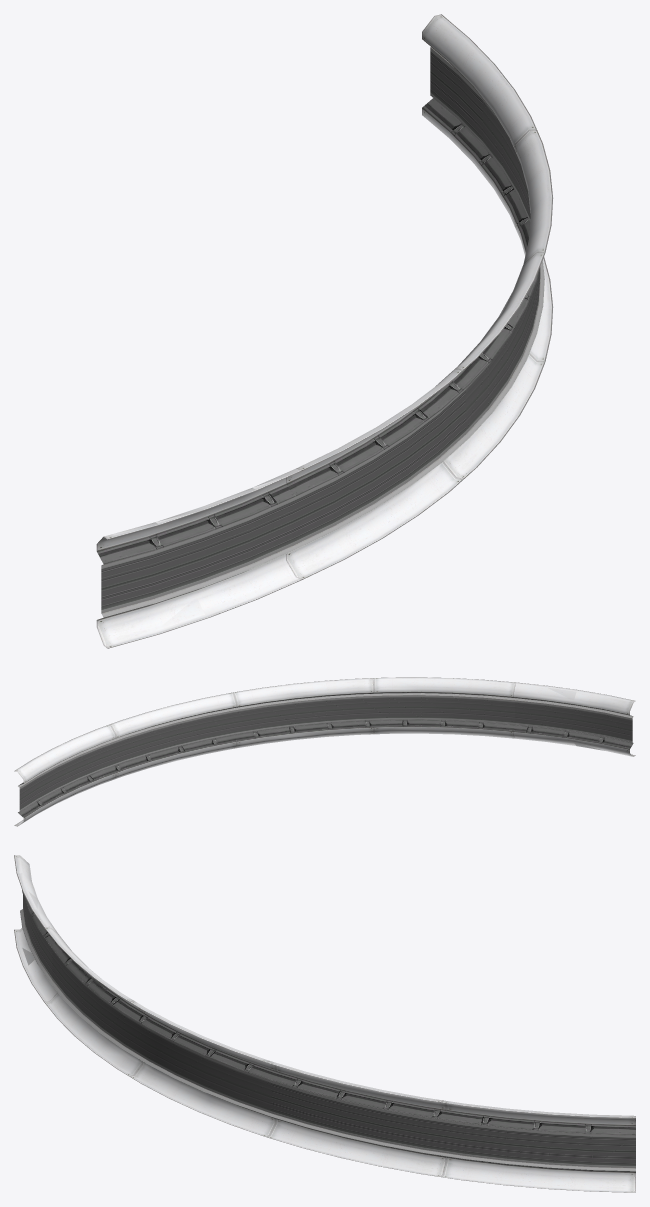
The model's file is Emb_Window_02_Rail.FBX.
3 renders of one model, top to bottom at view 1: azimuth 30°, elevation 25°; view 2: azimuth 150°, elevation 25°; view 3: azimuth 270°, elevation 25°, orthographic. The views are drawn at different scales.
Parts seen in each view (by area): view 1: Emb_Window_02_Rail; view 2: Emb_Window_02_Rail; view 3: Emb_Window_02_Rail.
Part boxes in pixels (left/top/right/bottom): Emb_Window_02_Rail: left=96, top=14, right=553, bottom=648; Emb_Window_02_Rail: left=14, top=677, right=635, bottom=826; Emb_Window_02_Rail: left=14, top=855, right=635, bottom=1192.
Size of the model in its own units: 9.87 by 1.3 by 9.86.
